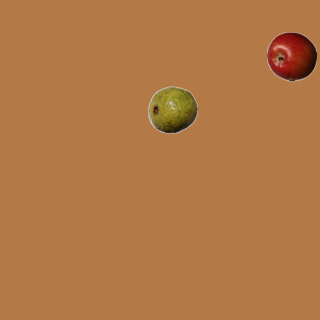Apple Braeburn: (266, 31, 316, 81)
Guava: (147, 84, 197, 134)
